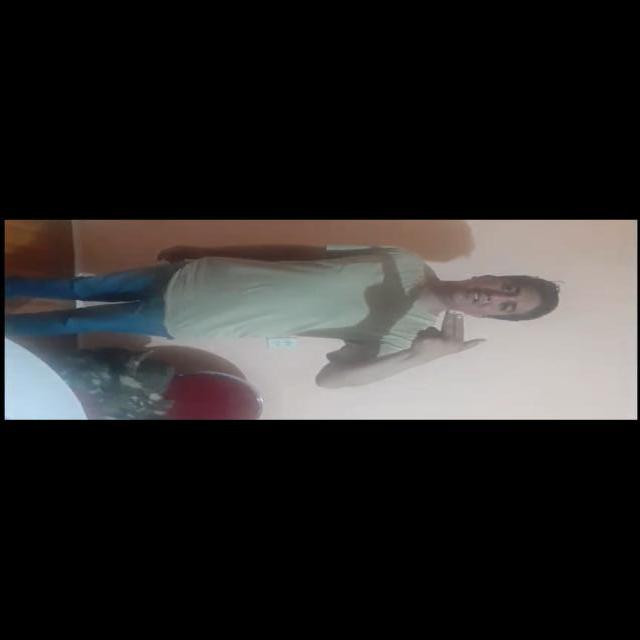H: (402, 306, 491, 373)
